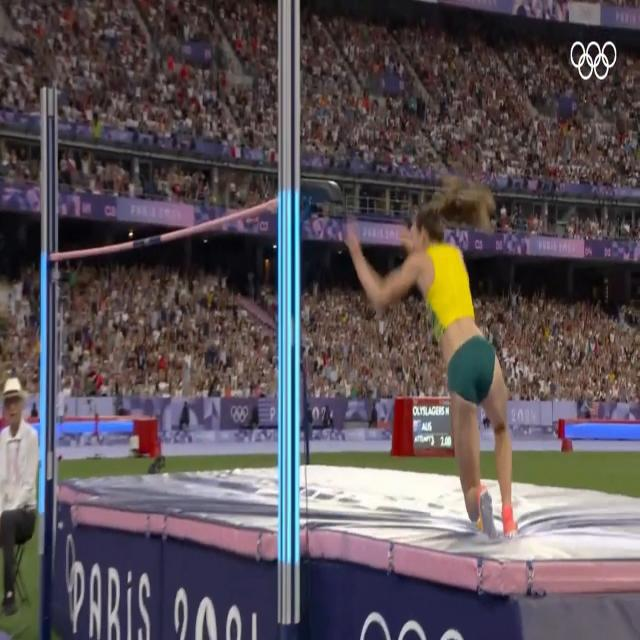land: (358, 210, 516, 538)
